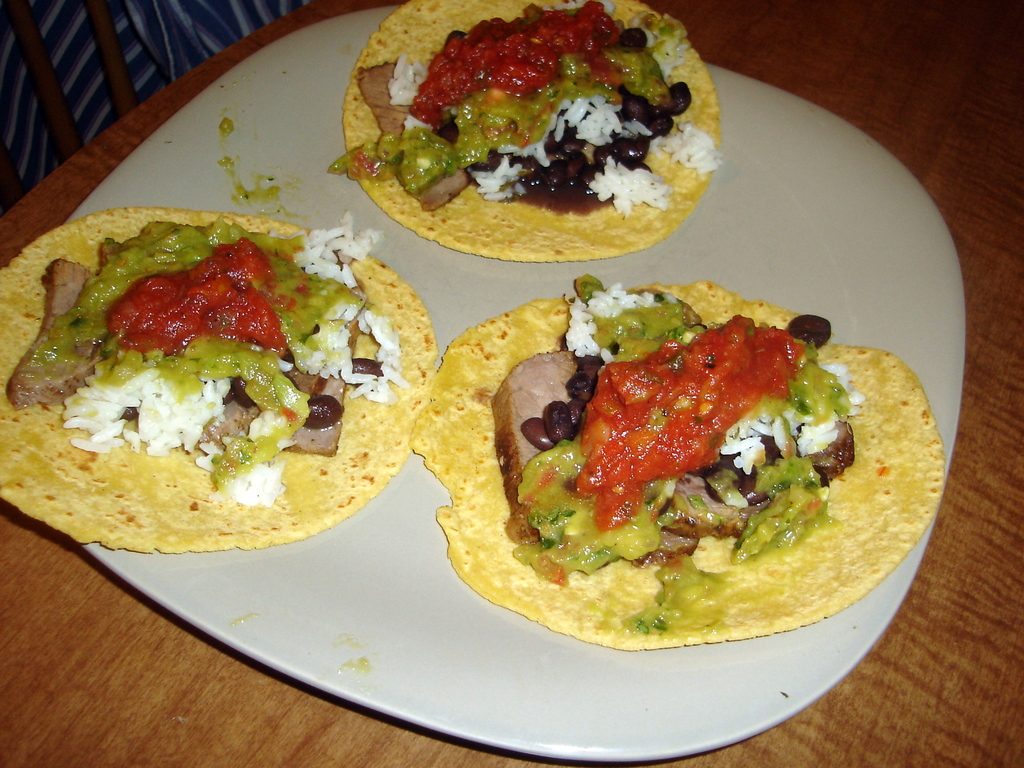taco: (462, 259, 933, 662), (0, 202, 435, 553), (333, 0, 723, 268)
